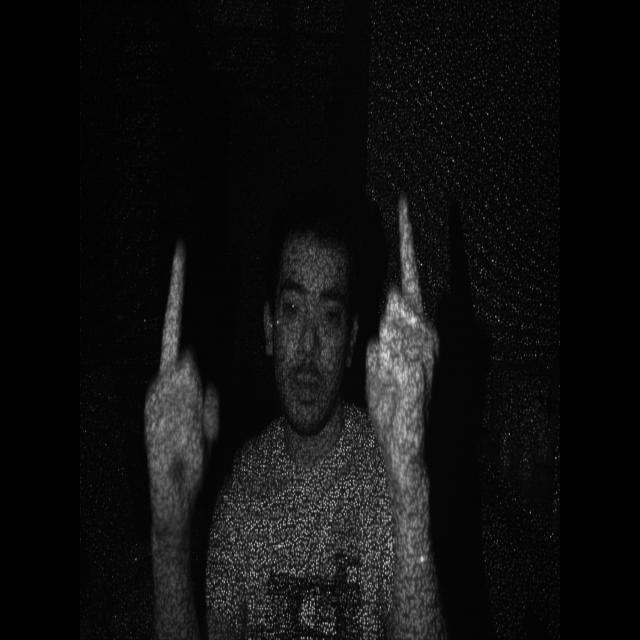STARS: (136, 220, 230, 520), (363, 183, 440, 470)
